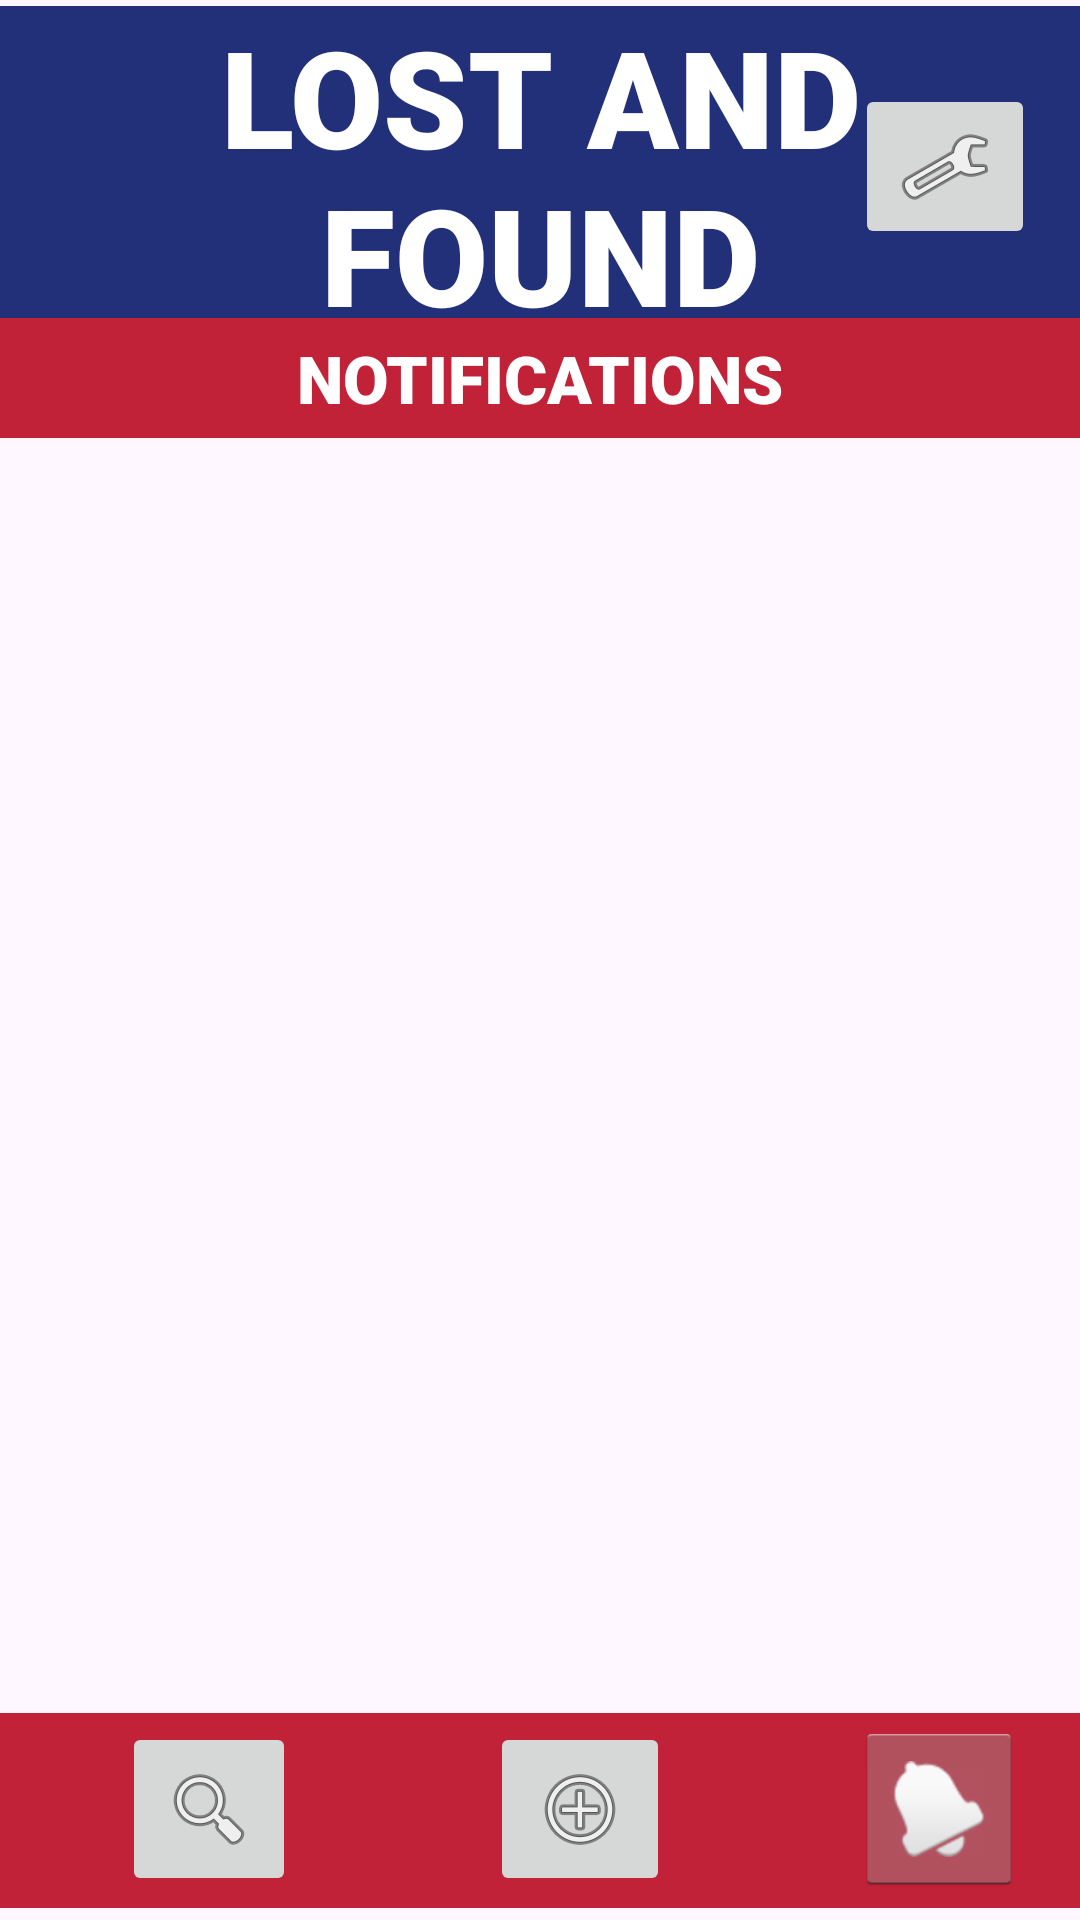

Where to tap for icons on this 1080w x 1920h app screen, as (x=x, y=y):
add: (x=580, y=1809)
manage: (x=945, y=166)
popup reminder: (x=939, y=1809)
search: (x=209, y=1809)
